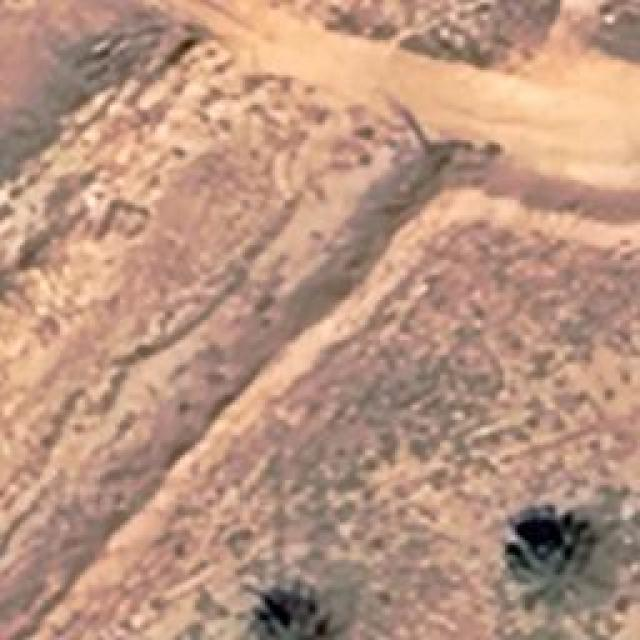PalmTree: (502, 520, 600, 605), (245, 590, 338, 638)
